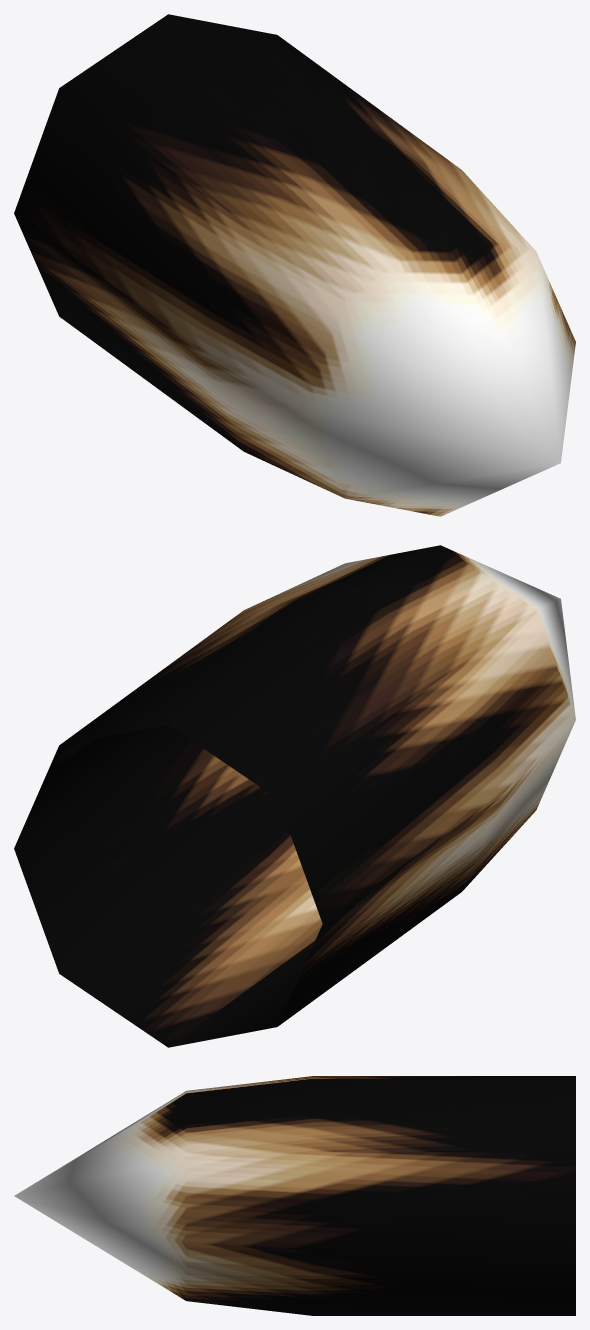
Rendered from SM_MuzzleFire_03.fbx.
3 views of the same model, one above another, from view 1: azimuth 30°, elevation 25°; view 2: azimuth 150°, elevation 25°; view 3: azimuth 270°, elevation 25° (orthographic). The views are drawn at different scales.
Visible parts, largest first — view 1: SM_MuzzleFire_03; view 2: SM_MuzzleFire_03; view 3: SM_MuzzleFire_03.
Part boxes in pixels (left/top/right/bottom): SM_MuzzleFire_03: left=14, top=14, right=575, bottom=516; SM_MuzzleFire_03: left=14, top=545, right=575, bottom=1047; SM_MuzzleFire_03: left=14, top=1076, right=575, bottom=1315.
Size of the model in its own units: 20.04 by 20.04 by 44.16.
